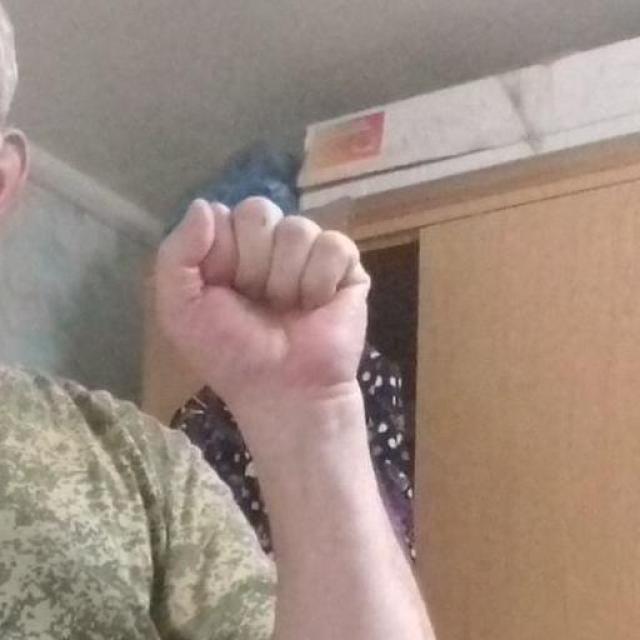hand: (151, 192, 374, 412)
